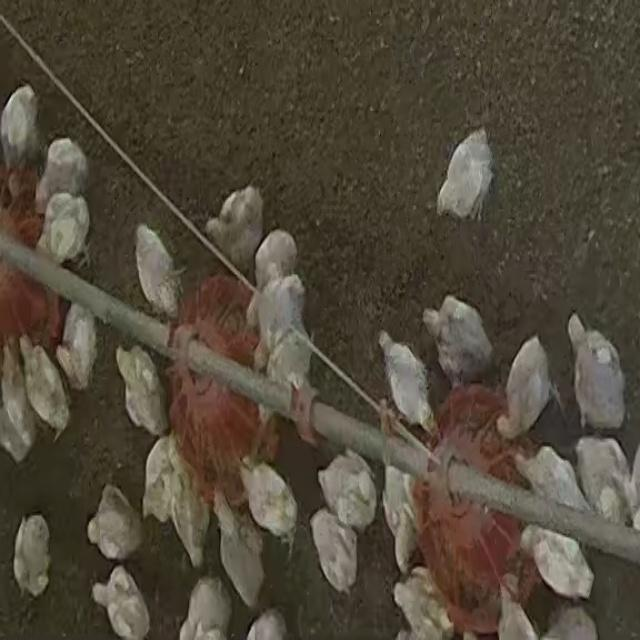chicken: (418, 297, 492, 394), (376, 329, 446, 424), (496, 340, 563, 439), (569, 312, 625, 430), (519, 518, 600, 590), (130, 217, 192, 311), (437, 125, 491, 226), (511, 448, 593, 509), (21, 334, 74, 428), (22, 129, 95, 197), (575, 438, 638, 513), (214, 497, 261, 597), (110, 345, 160, 433), (317, 444, 379, 514), (245, 230, 296, 312), (256, 279, 304, 365), (241, 464, 294, 541), (86, 479, 142, 549), (0, 84, 46, 168), (0, 343, 33, 453), (55, 298, 97, 384), (96, 570, 147, 640), (36, 196, 90, 261), (208, 198, 265, 258), (261, 338, 304, 411), (184, 579, 230, 640), (14, 515, 47, 599)
